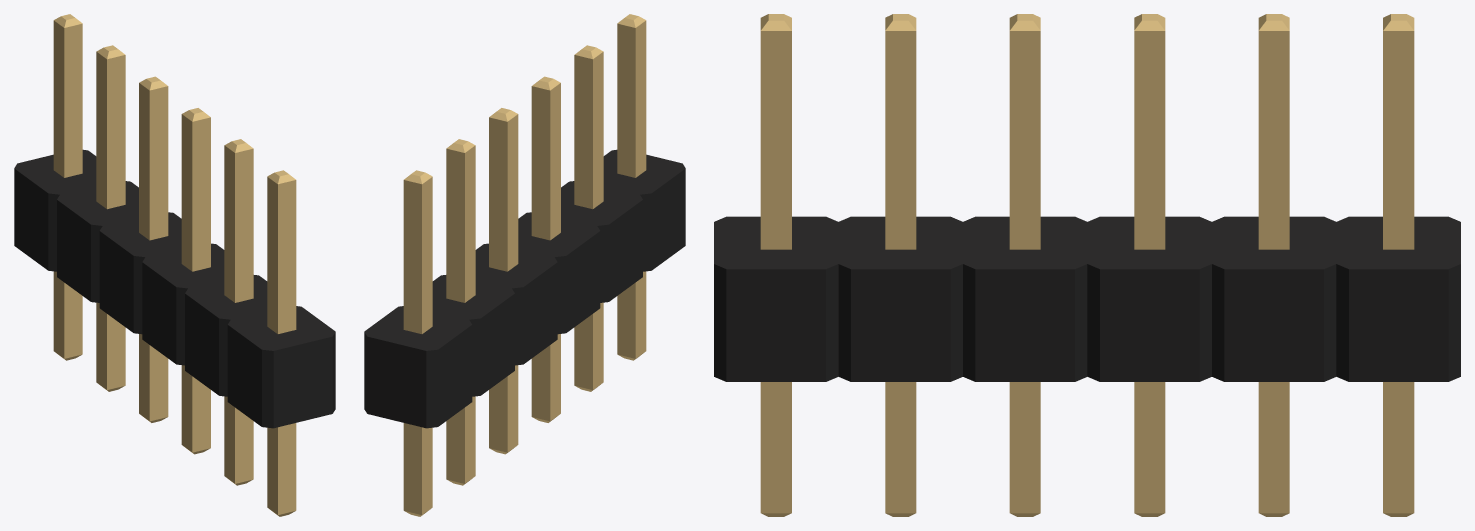
The model's file is PinHeader_1x06_P2.00mm_Vertical.glb.
The picture shows the model from 3 angles, left to right: view 1: azimuth 30°, elevation 25°; view 2: azimuth 150°, elevation 25°; view 3: azimuth 270°, elevation 25°; orthographic projection. The views are drawn at different scales.
Visible parts, largest first — view 1: =>[0:1:1:3]; view 2: =>[0:1:1:3]; view 3: =>[0:1:1:3].
Boxes of the visible parts, x1,y1,x2,y2 form: =>[0:1:1:3]: [14, 14, 335, 516]; =>[0:1:1:3]: [364, 14, 685, 516]; =>[0:1:1:3]: [714, 14, 1460, 516].
Bounding box in the file's own units: 0.002 × 0.0088 × 0.012.
